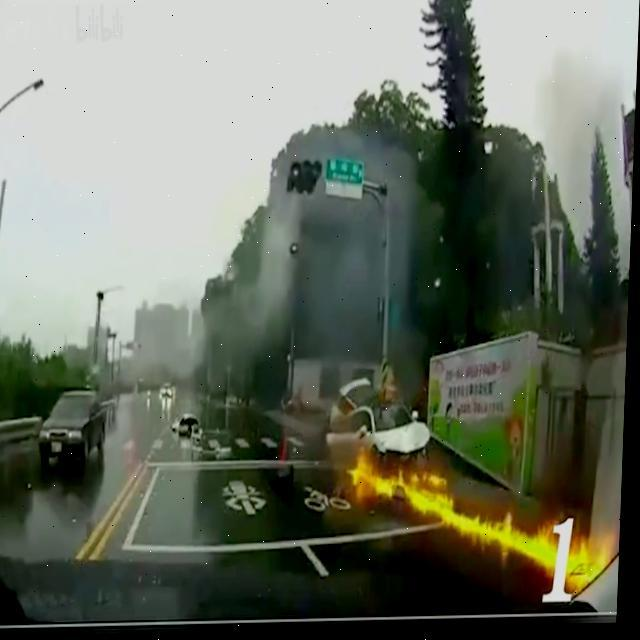single accident: (315, 295, 587, 560)
